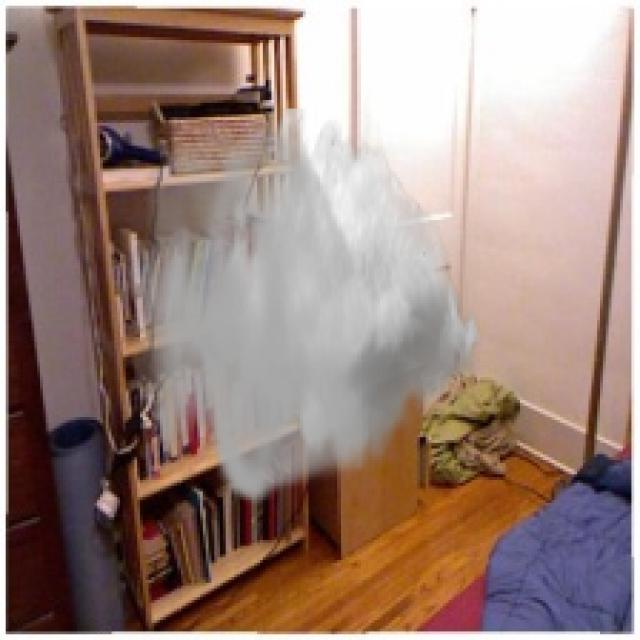smoke: (128, 109, 483, 508)
